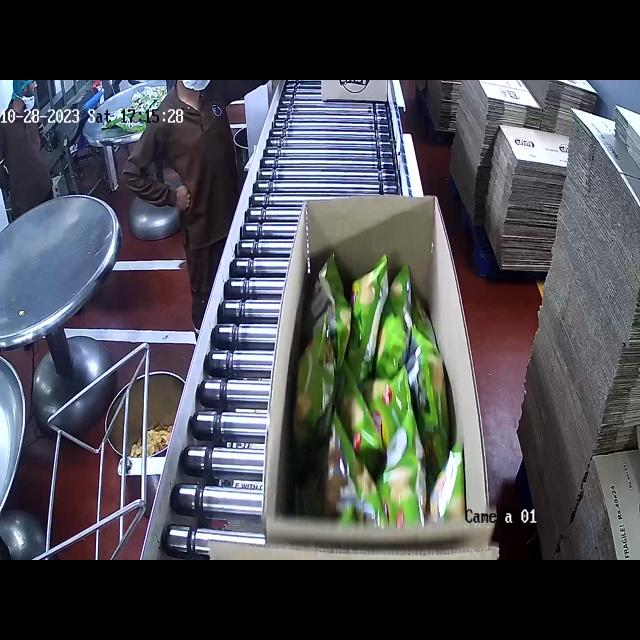yogurt: (289, 250, 466, 529)
